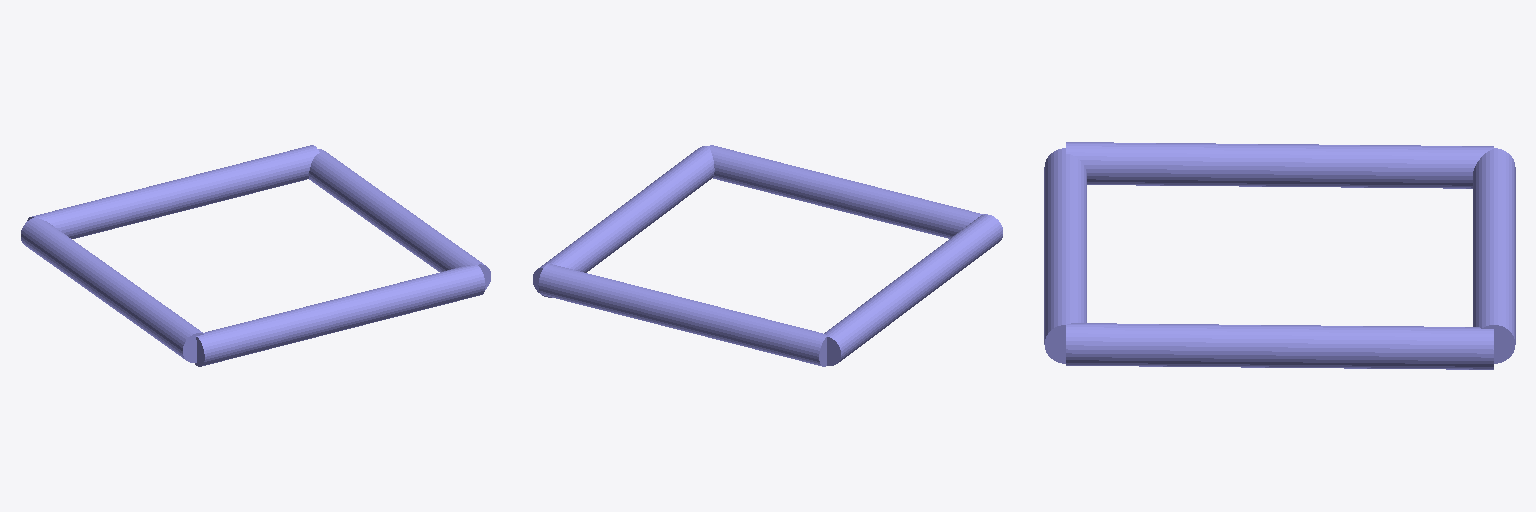
robot.urdf — hoop:
<?xml version="1.0" ?>

<robot name="hoop">
  <material name="cloth_blue">
    <color rgba="0.65294 0.65294 0.95294 1"/>
  </material>
  
  <link name="right_hoop_proxy1" />
  
  <link name="right_hoop_proxy2" />
  <joint name="right_hoop_dj1" type="continuous">
    <origin rpy="0 0 0" xyz="0 0 0.05"/>
    <parent link="right_hoop_proxy1"/>
    <child link="right_hoop_proxy2"/>
    <axis xyz="0 1 0"/>
  </joint>
  <link name="right_hoop_proxy3" />
  <joint name="right_hoop_dj2" type="continuous">
    <origin rpy="0 0 0" xyz="0 0 0"/>
    <parent link="right_hoop_proxy2"/>
    <child link="right_hoop_proxy3"/>
    <axis xyz="0 0 1"/>
  </joint>
  
  <link name="right_hoop_1">
    <collision>
      <origin rpy="0 1.56 0" xyz="0 0 0"/>
      <geometry>
        <cylinder length="0.2" radius="0.01"/>
      </geometry>
    </collision>
    <visual>
      <origin rpy="0 1.56 0" xyz="0 0 0"/>
      <geometry>
        <cylinder length="0.2" radius="0.01"/>
      </geometry>
      <material name="cloth_blue"/>
    </visual>
    <inertial>
      <origin rpy="0 0 0" xyz="1.0E-08 1.0E-08 1.0E-08"/>
      <mass value="0.1"/>
      <inertia ixx="0.000335833" ixy="0.0" ixz="0.0" iyy="0.000335833" iyz="0.0" izz="0.000005"/>
    </inertial>
  </link>
  <joint name="right_hoop_dj3" type="continuous">
    <origin rpy="0 0 0" xyz="0 0 0"/>
    <parent link="right_hoop_proxy3"/>
    <child link="right_hoop_1"/>
    <axis xyz="1 0 0"/>
  </joint>

  <link name="right_hoop_2">
    <collision>
      <origin rpy="1.56 0 0" xyz="0.1 0.1 0"/>
      <geometry>
        <cylinder length="0.2" radius="0.01"/>
      </geometry>
    </collision>
    <visual>
      <origin rpy="1.56 0 0" xyz="0.1 0.1 0"/>
      <geometry>
        <cylinder length="0.2" radius="0.01"/>
      </geometry>
      <material name="cloth_blue"/>
    </visual>
    <inertial>
      <origin rpy="0 0 0" xyz="0.1 0.1 0"/>
      <mass value="0.1"/>
      <inertia ixx="0.000335833" ixy="0.0" ixz="0.0" iyy="0.000335833" iyz="0.0" izz="0.000005"/>
    </inertial>
  </link>
  <joint name="right_hoop_j2" type="fixed">
    <origin rpy="0 0 0" xyz="0 0 0"/>
    <axis xyz="0 0 1"/>
    <parent link="right_hoop_1"/>
    <child link="right_hoop_2"/>
  </joint>
  <link name="right_hoop_3">
    <collision>
      <origin rpy="1.56 0 0" xyz="-0.1 0.1 0"/>
      <geometry>
        <cylinder length="0.2" radius="0.01"/>
      </geometry>
    </collision>
    <visual>
      <origin rpy="1.56 0 0" xyz="-0.1 0.1 0"/>
      <geometry>
        <cylinder length="0.2" radius="0.01"/>
      </geometry>
      <material name="cloth_blue"/>
    </visual>
    <inertial>
      <origin rpy="0 0 0" xyz="-0.1 0.1 0"/>
      <mass value="0.1"/>
      <inertia ixx="0.000335833" ixy="0.0" ixz="0.0" iyy="0.000335833" iyz="0.0" izz="0.000005"/>
    </inertial>
  </link>
  <joint name="right_hoop_j3" type="fixed">
    <origin rpy="0 0 0" xyz="0 0 0"/>
    <axis xyz="0 0 1"/>
    <parent link="right_hoop_1"/>
    <child link="right_hoop_3"/>
  </joint>
  <link name="right_hoop_4">
    <collision>
      <origin rpy="0 1.56 0" xyz="0 0.2 0"/>
      <geometry>
        <cylinder length="0.2" radius="0.01"/>
      </geometry>
    </collision>
    <visual>
      <origin rpy="0 1.56 0" xyz="0 0.2 0"/>
      <geometry>
        <cylinder length="0.2" radius="0.01"/>
      </geometry>
      <material name="cloth_blue"/>
    </visual>
    <inertial>
      <origin rpy="0 0 0" xyz="0 0.2 0"/>
      <mass value="0.1"/>
      <inertia ixx="0.000335833" ixy="0.0" ixz="0.0" iyy="0.000335833" iyz="0.0" izz="0.000005"/>
    </inertial>
  </link>
  <joint name="right_hoop_j4" type="fixed">
    <origin rpy="0 0 0" xyz="0 0 0"/>
    <axis xyz="0 0 1"/>
    <parent link="right_hoop_1"/>
    <child link="right_hoop_4"/>
  </joint>
</robot>

--- Facts derived from the render (not from the file) ---
Views: 3 orthographic renders of the robot side by side, from view 1: azimuth 30°, elevation 25°; view 2: azimuth 150°, elevation 25°; view 3: azimuth 270°, elevation 25°.
Robot: hoop — 7 links, 6 joints (3 continuous, 3 fixed); root link right_hoop_proxy1; default pose: every joint at zero.
Visible links, largest first — view 1: right_hoop_1, right_hoop_4, right_hoop_3, right_hoop_2; view 2: right_hoop_4, right_hoop_1, right_hoop_3, right_hoop_2; view 3: right_hoop_2, right_hoop_3, right_hoop_4, right_hoop_1.
Boxes of the visible links, <box> form: right_hoop_1: <box>195,265,485,366</box>; right_hoop_4: <box>27,145,319,238</box>; right_hoop_3: <box>21,218,203,362</box>; right_hoop_2: <box>309,149,490,289</box>; right_hoop_4: <box>538,264,827,366</box>; right_hoop_1: <box>709,145,983,238</box>; right_hoop_3: <box>824,214,1002,365</box>; right_hoop_2: <box>533,146,714,297</box>; right_hoop_2: <box>1066,323,1493,369</box>; right_hoop_3: <box>1066,142,1493,188</box>; right_hoop_4: <box>1473,148,1515,363</box>; right_hoop_1: <box>1044,148,1086,363</box>.
Bounding box of the posed robot: 0.22 × 0.22 × 0.0222 m (x, y, z).
Geometry: primitives only (box / cylinder / sphere), no mesh files.
